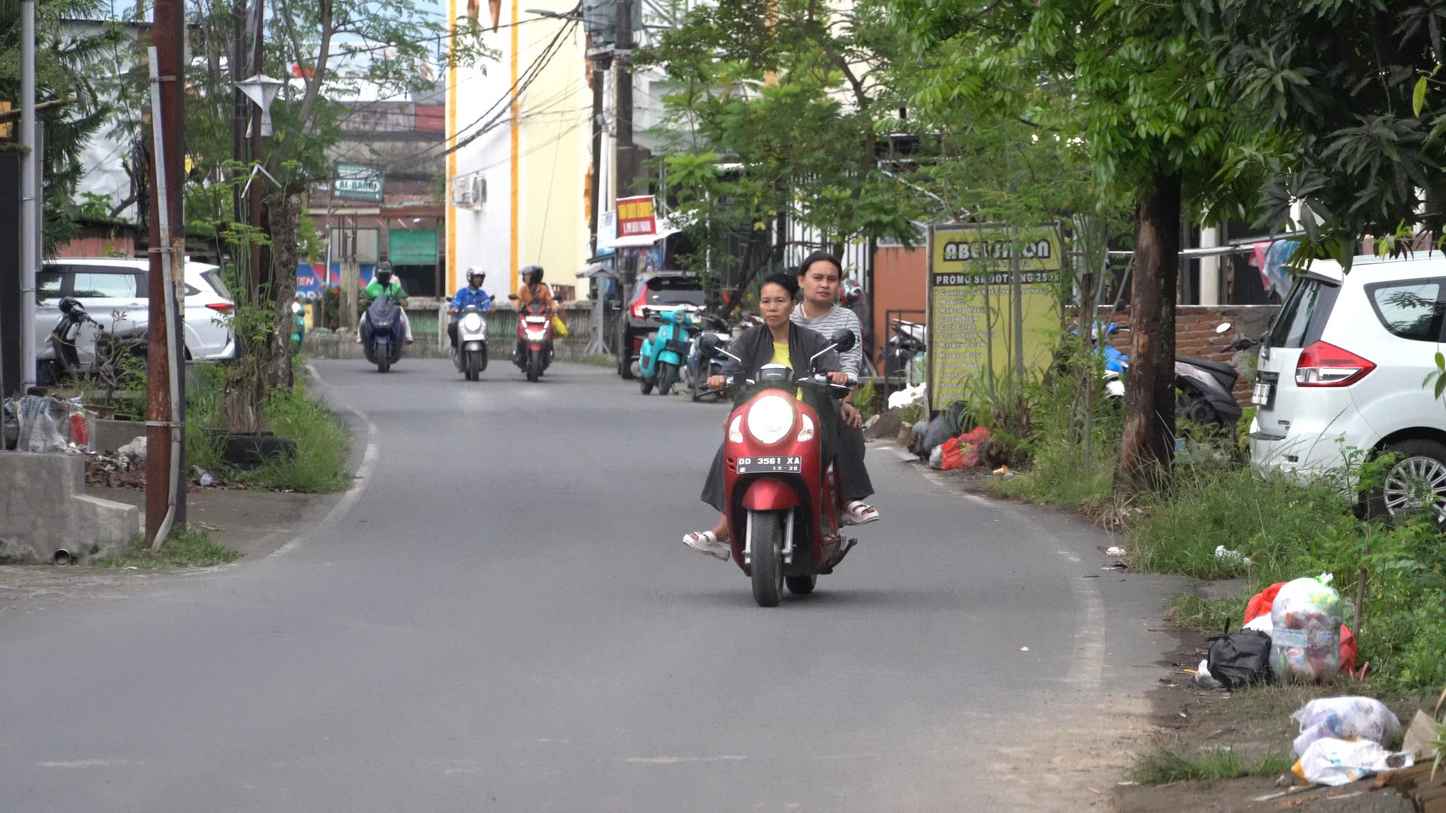number-plate: (735, 453, 801, 475)
